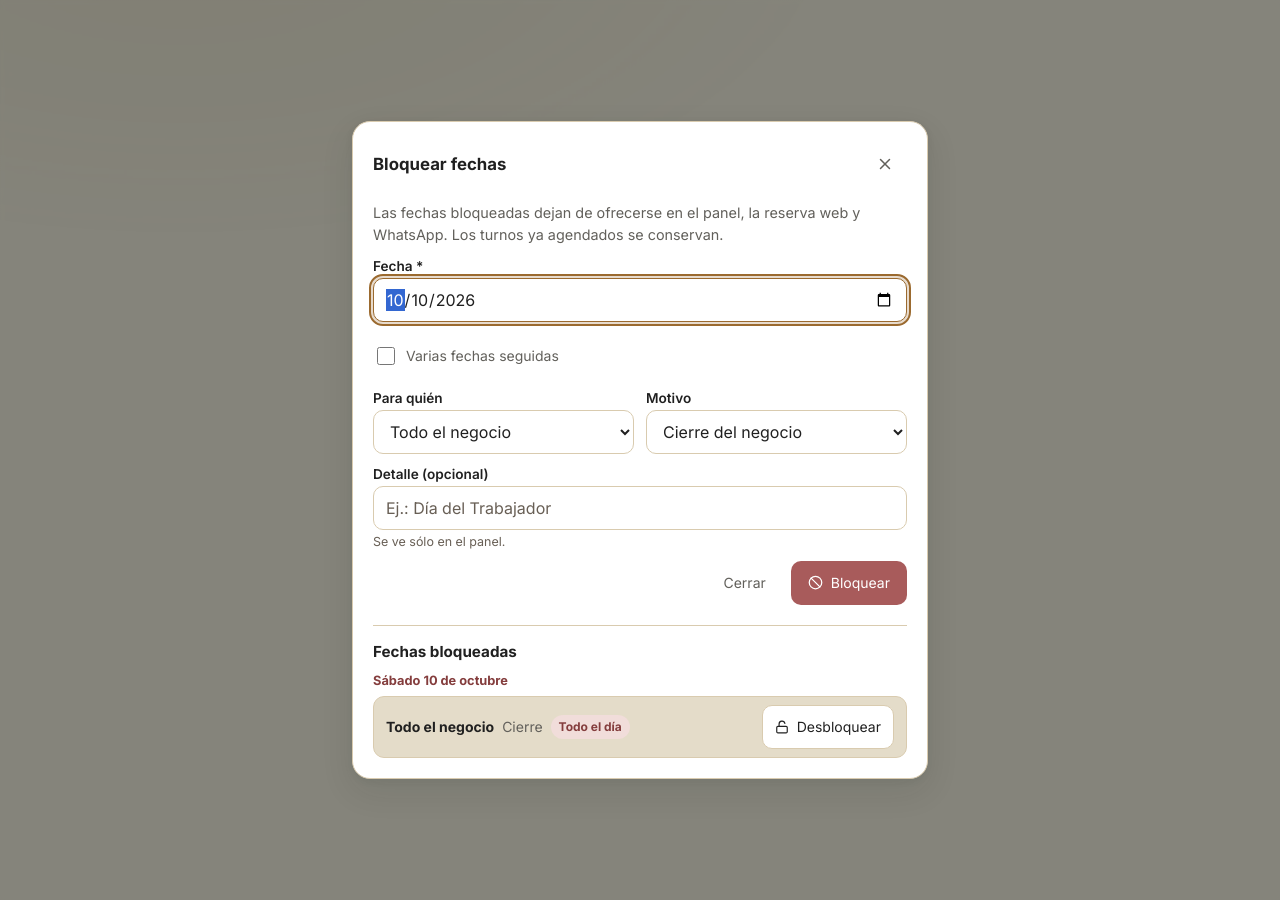
BloqueosModal › si el desbloqueo falla lo informa y el bloqueo sigue en la lista
This screenshot has width=1280, height=900.
What coordinates should you click on to do the following:
click the button with aria-label "Desbloquear el sábado 10"
I would click on:
 (828, 727)
Its box is [762,705,894,749].
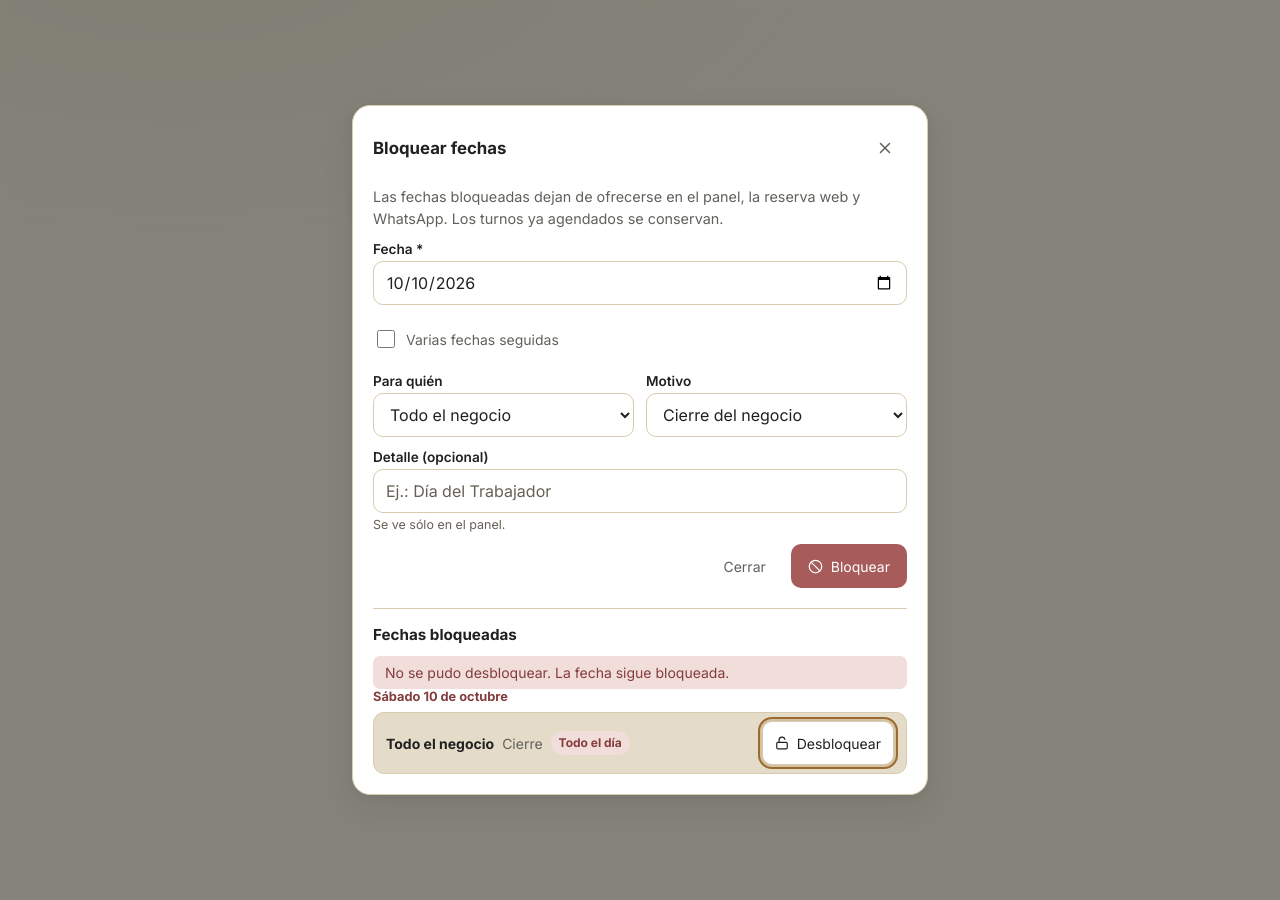
Expected: the text "Cierre" is shown, [502,735,543,752]
Now the message shows "La fecha sigue bloqueada", box [385,664,729,681]
